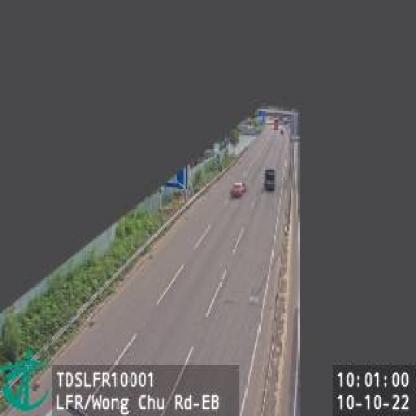Car: (230, 178, 248, 200), (263, 167, 278, 192)
